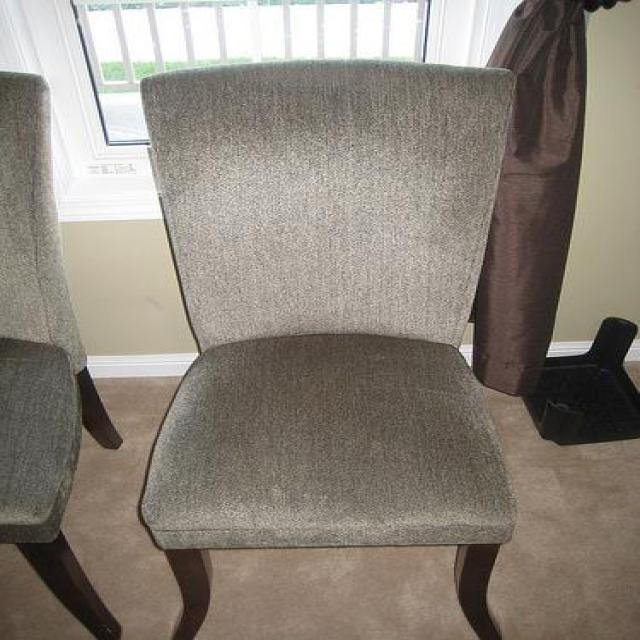chair: (137, 56, 516, 640)
